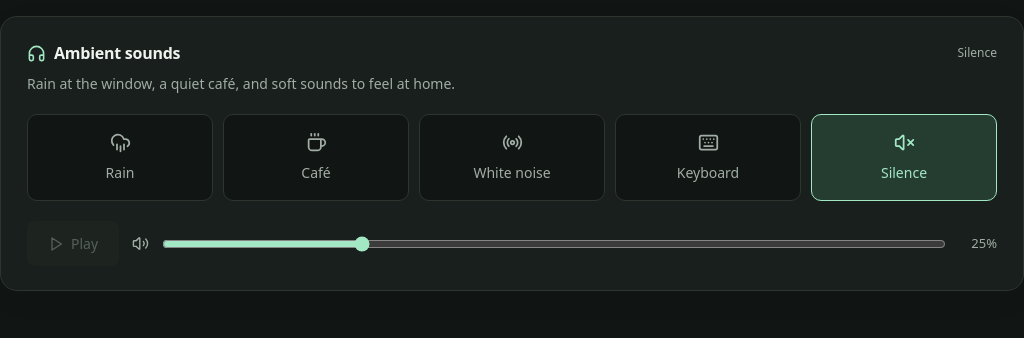
it: handles unavailable audio and releases it on unmount
Click the button "White noise": (512, 158) x1=419 y1=114 x2=605 y2=201
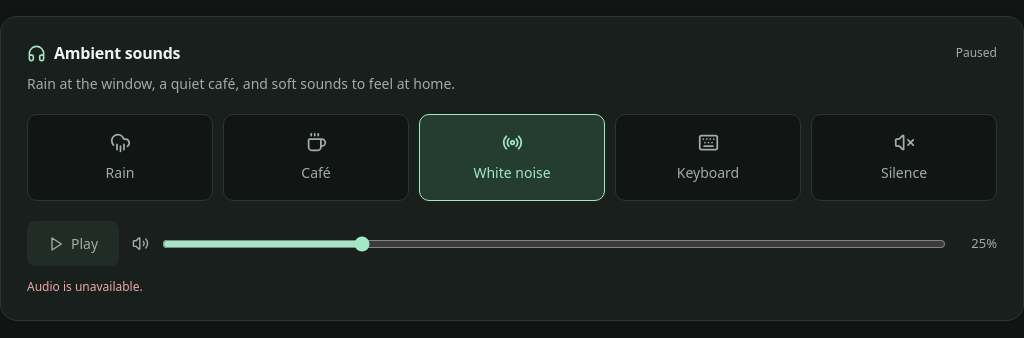
Expected: the message "Audio is unavailable." is shown, x1=27 y1=278 x2=143 y2=295
